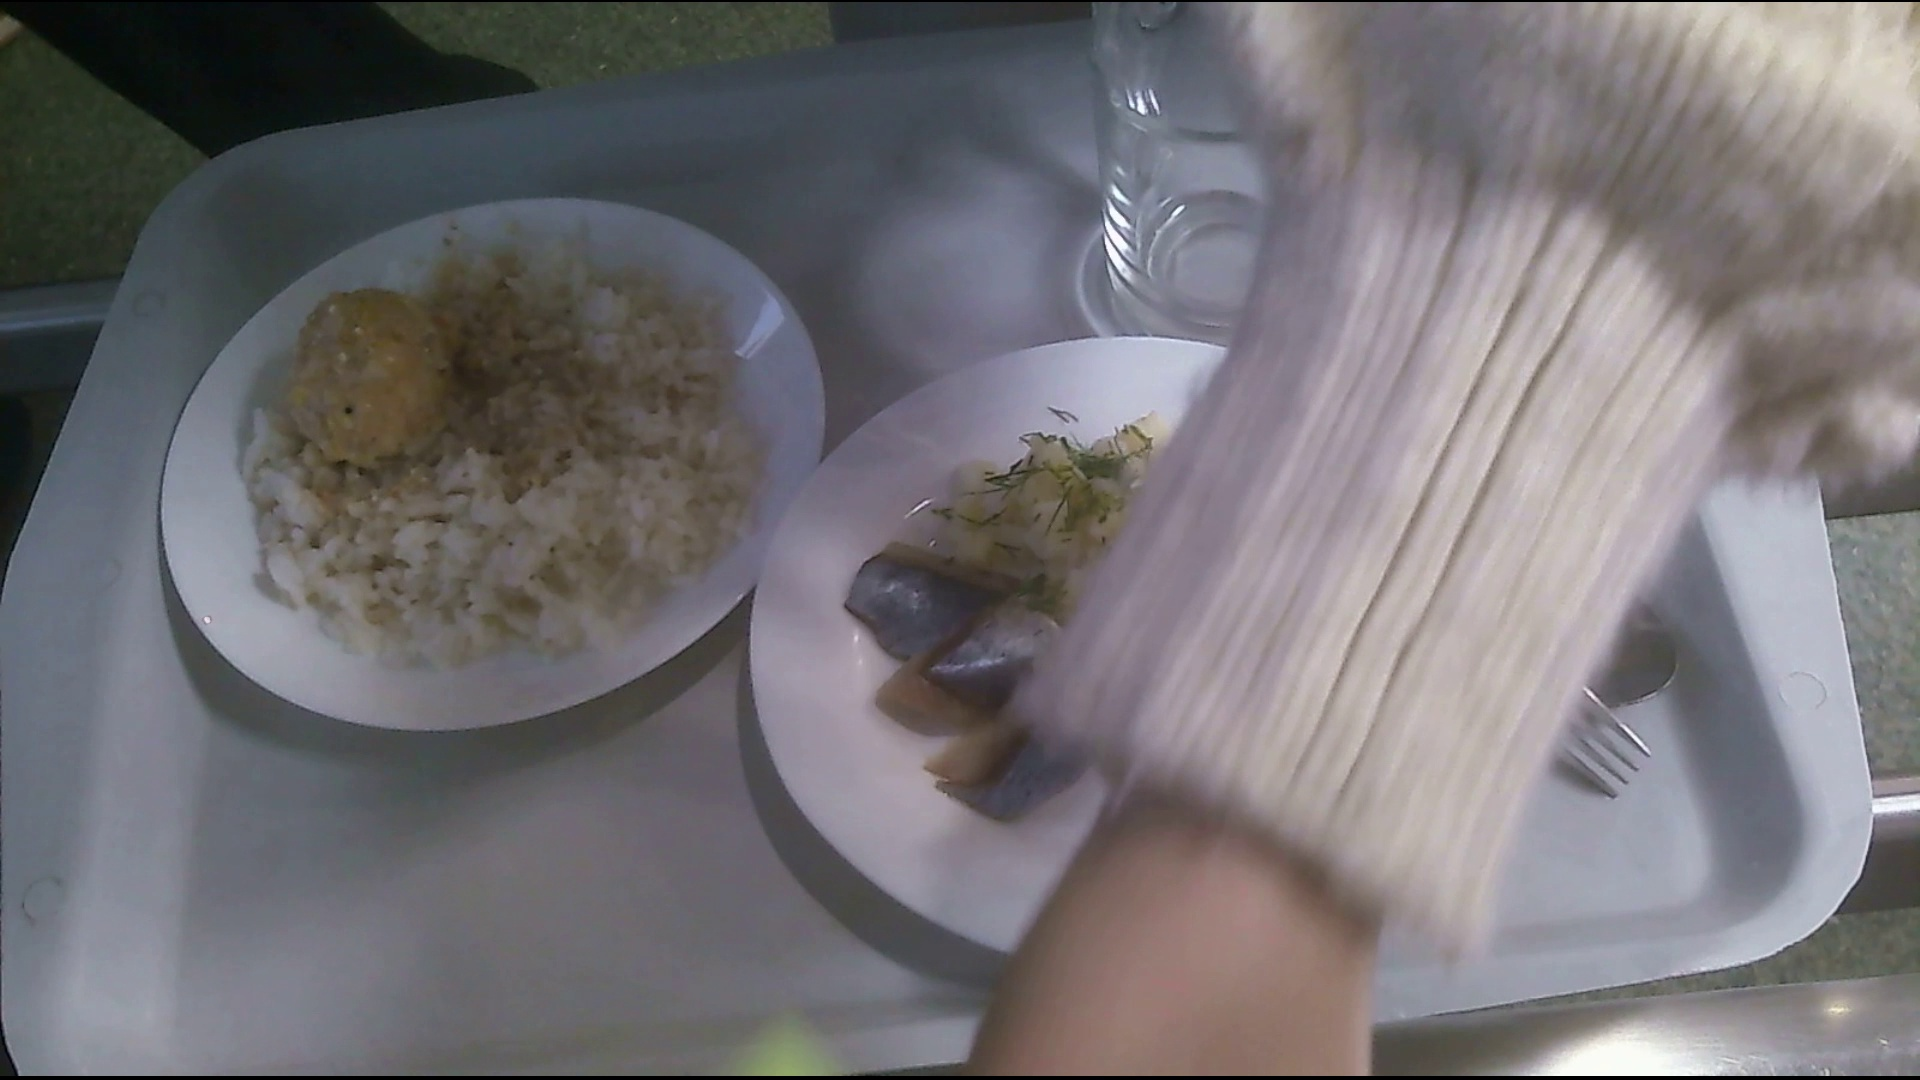drink: (1080, 7, 1288, 336)
plate: (162, 196, 807, 745), (740, 332, 1247, 969)
